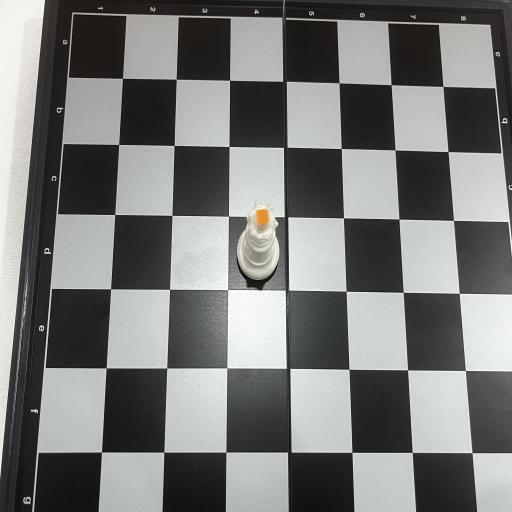White queen: (237, 201, 279, 281)
